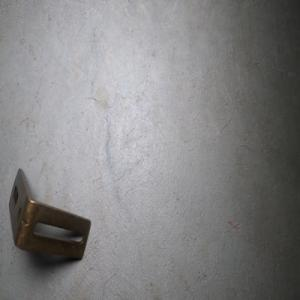MetalPart: (7, 167, 91, 261)
